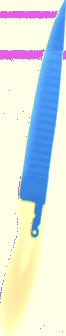Knife: (1, 1, 65, 336)
